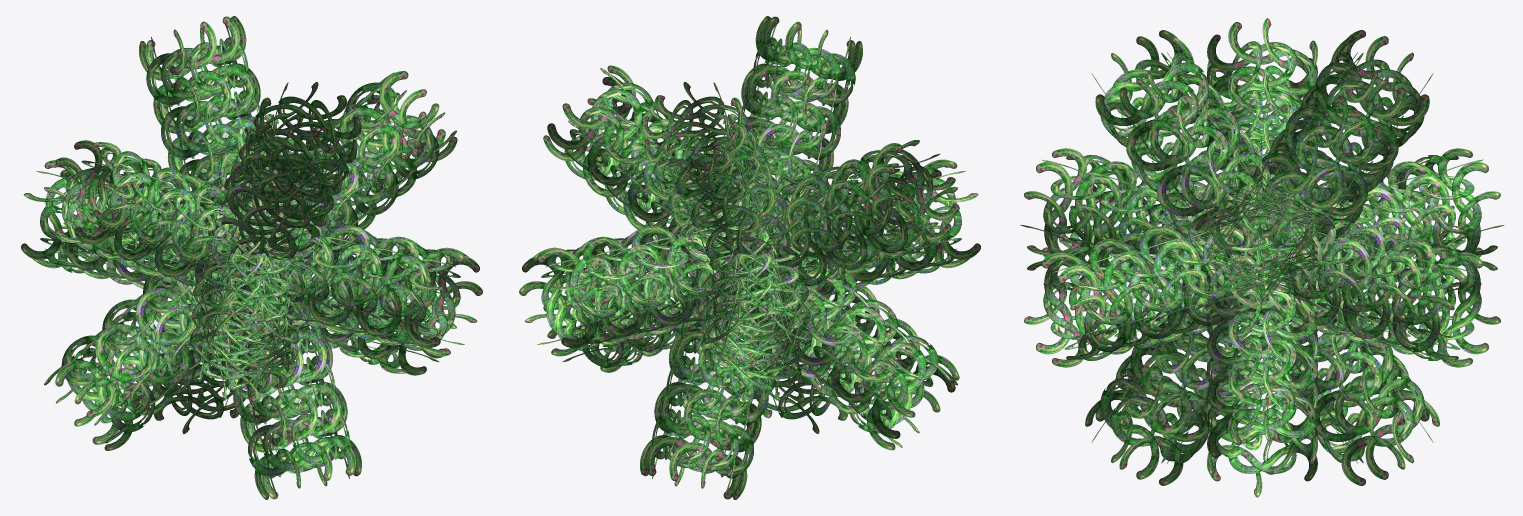
File: GreatDodecahemidodecacron12.gltf
The picture shows the model from 3 angles, left to right: view 1: azimuth 30°, elevation 25°; view 2: azimuth 150°, elevation 25°; view 3: azimuth 270°, elevation 25°; orthographic projection. The views are drawn at different scales.
Parts seen in each view (by area): view 1: GreatDodecahemidodecacron1; view 2: GreatDodecahemidodecacron1; view 3: GreatDodecahemidodecacron1.
Boxes of the visible parts, left/top/right/bottom form: GreatDodecahemidodecacron1: left=21, top=16, right=482, bottom=499; GreatDodecahemidodecacron1: left=519, top=16, right=980, bottom=499; GreatDodecahemidodecacron1: left=1020, top=18, right=1503, bottom=497.
Size of the model in its own units: 13.61 by 13.61 by 13.61.
1 material, 1 textured.
